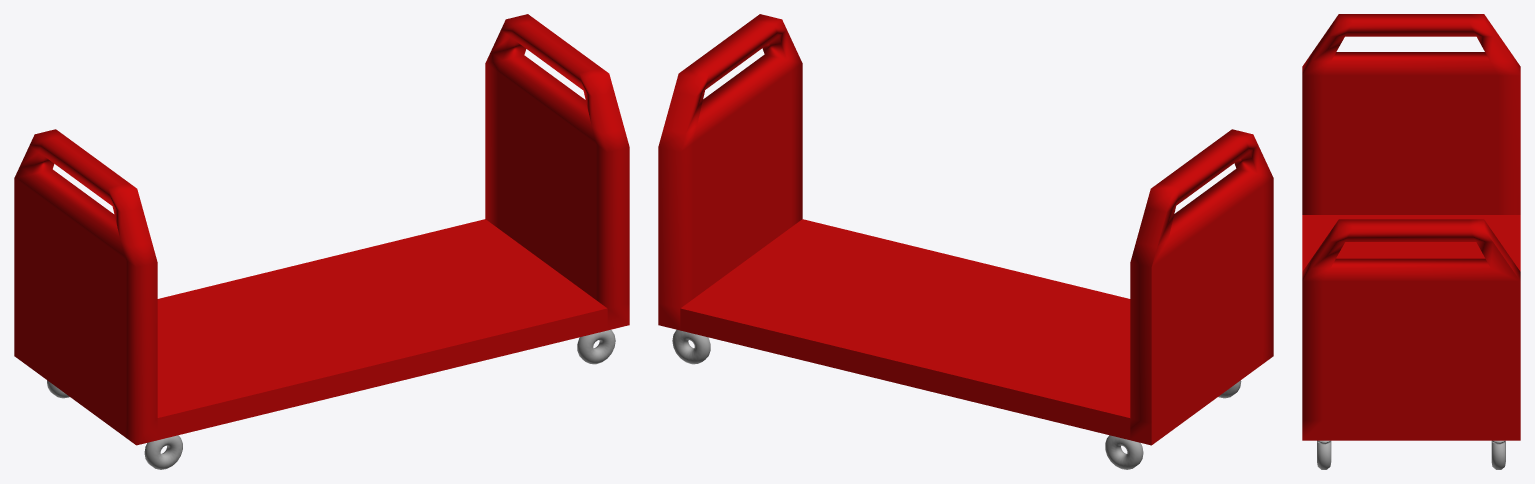
File: GymCart.fbx
3 views of the same model, side by side, from view 1: azimuth 30°, elevation 25°; view 2: azimuth 150°, elevation 25°; view 3: azimuth 270°, elevation 25° (orthographic). The views are drawn at different scales.
Parts seen in each view (by area): view 1: Cart; view 2: Cart; view 3: Cart.
Boxes of the visible parts, x1,y1,x2,y2 form: Cart: (14, 14, 629, 469); Cart: (658, 14, 1273, 469); Cart: (1302, 14, 1520, 469).
Bounding box in the file's own units: 350 × 189 × 150.
